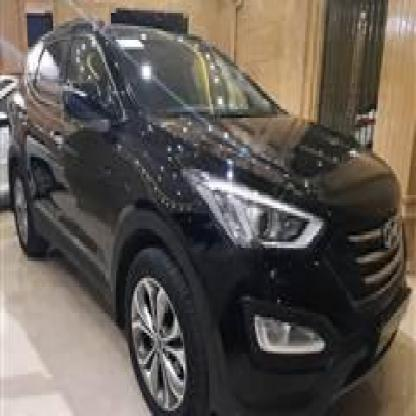Car: (0, 18, 411, 416)
